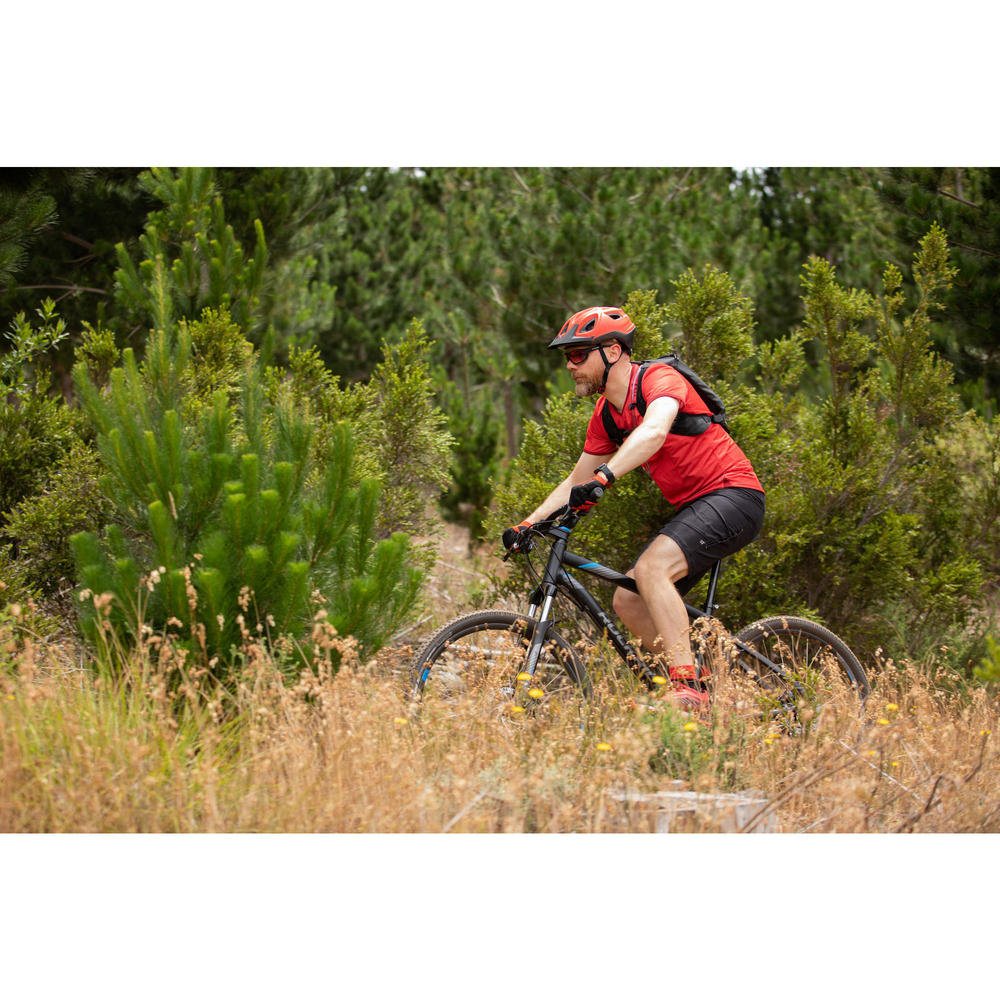MountainBike: (390, 502, 896, 806)
